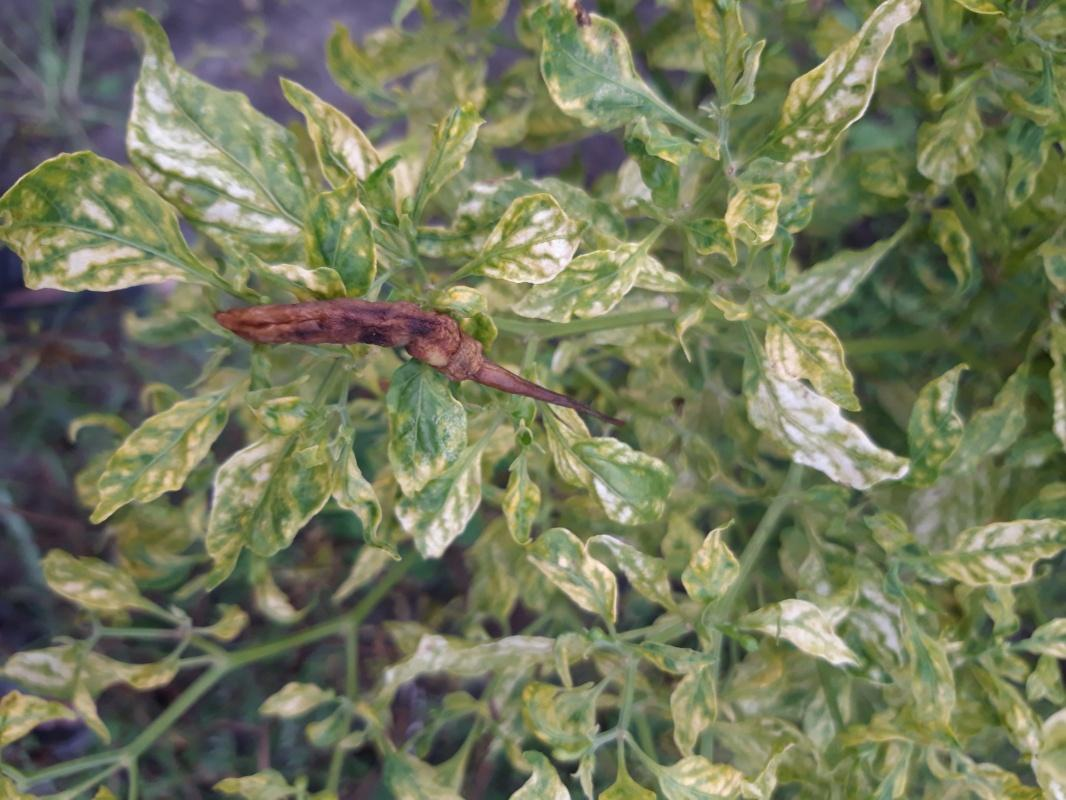antraknosa: (213, 294, 464, 373)
